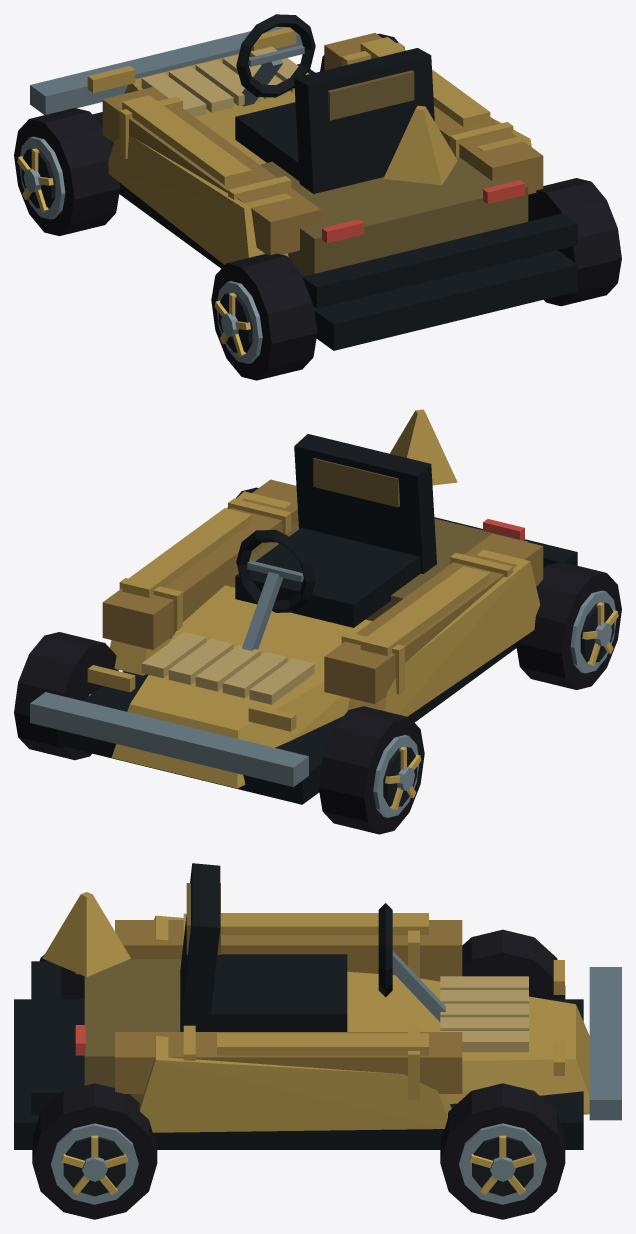
The model's file is kart.glb.
The picture shows the model from 3 angles, top to bottom: view 1: azimuth 30°, elevation 25°; view 2: azimuth 150°, elevation 25°; view 3: azimuth 270°, elevation 25°; orthographic projection. The views are drawn at different scales.
Visible parts, largest first — view 1: chassis, wheel-rear-left, wheel-front-left, wheel-rear-right; view 2: chassis, wheel-front-left, wheel-rear-left, wheel-front-right; view 3: chassis, wheel-front-right, wheel-rear-right, wheel-front-left, wheel-rear-left.
Part boxes in pixels (bbox=[...]): chassis: bbox=[30, 14, 577, 350]; wheel-rear-left: bbox=[211, 253, 317, 380]; wheel-front-left: bbox=[14, 108, 120, 235]; wheel-rear-right: bbox=[528, 178, 621, 306]; chassis: bbox=[30, 409, 577, 804]; wheel-front-left: bbox=[318, 706, 424, 834]; wheel-rear-left: bbox=[516, 562, 621, 689]; wheel-front-right: bbox=[14, 632, 118, 760]; chassis: bbox=[14, 863, 621, 1149]; wheel-front-right: bbox=[440, 1083, 565, 1219]; wheel-rear-right: bbox=[32, 1083, 157, 1219]; wheel-front-left: bbox=[462, 929, 565, 999]; wheel-rear-left: bbox=[39, 954, 84, 999].
Size of the model in its own units: 2.24 by 1.3 by 3.01.
